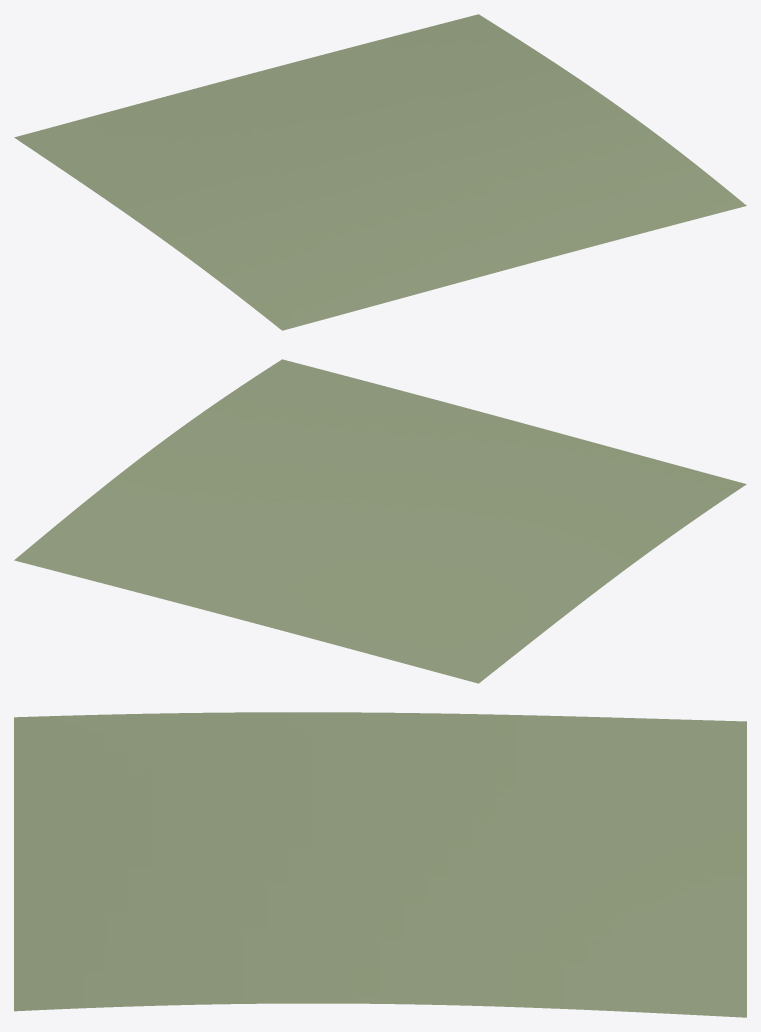
Rendered from desert-20-22.glb.
The picture shows the model from 3 angles, top to bottom: view 1: azimuth 30°, elevation 25°; view 2: azimuth 150°, elevation 25°; view 3: azimuth 270°, elevation 25°; orthographic projection. The views are drawn at different scales.
Visible parts, largest first — view 1: desert-20-22; view 2: desert-20-22; view 3: desert-20-22.
Part boxes in pixels (box(x1,y1,x2,y2)): desert-20-22: box(14, 14, 746, 330); desert-20-22: box(14, 359, 746, 683); desert-20-22: box(14, 712, 746, 1017).
Bounding box in the file's own units: 512 × 21.38 × 512.
